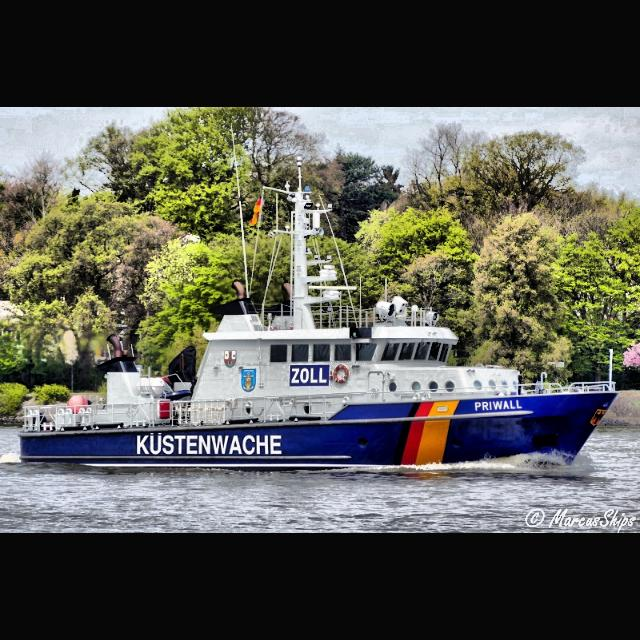patrol_vessel: (18, 265, 624, 471)
